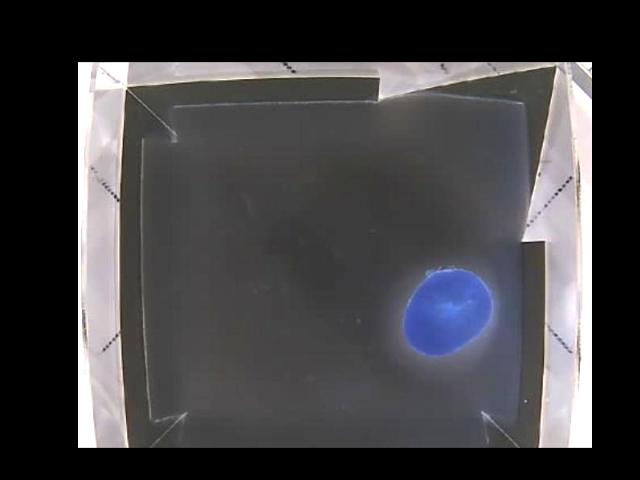Potato: (401, 267, 494, 357)
